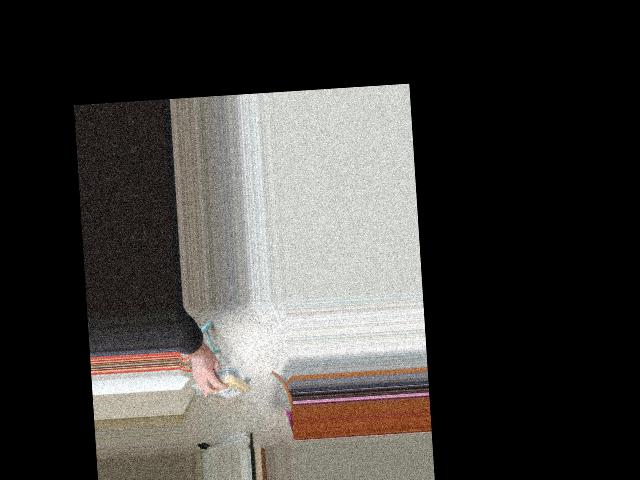cheese: (198, 371, 251, 399)
